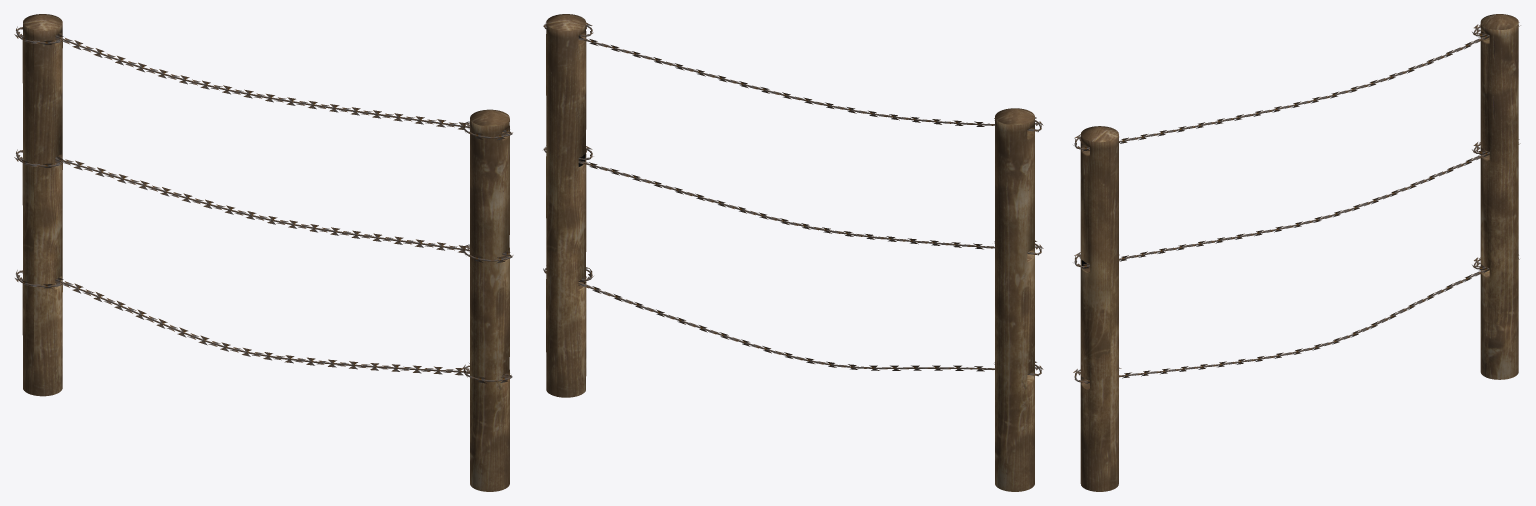
File: fenc.glb
3 renders of one model, left to right at view 1: azimuth 30°, elevation 25°; view 2: azimuth 210°, elevation 25°; view 3: azimuth 270°, elevation 25°, orthographic. The views are drawn at different scales.
Visible parts, largest first — view 1: Circle.005; view 2: Circle.005; view 3: Circle.005.
Part boxes in pixels (x1,y1,x2,y2): Circle.005: [14, 14, 513, 491]; Circle.005: [543, 14, 1043, 491]; Circle.005: [1073, 14, 1520, 491].
Size of the model in its own units: 1.77 by 2.25 by 2.56.
1 material, 1 textured.
